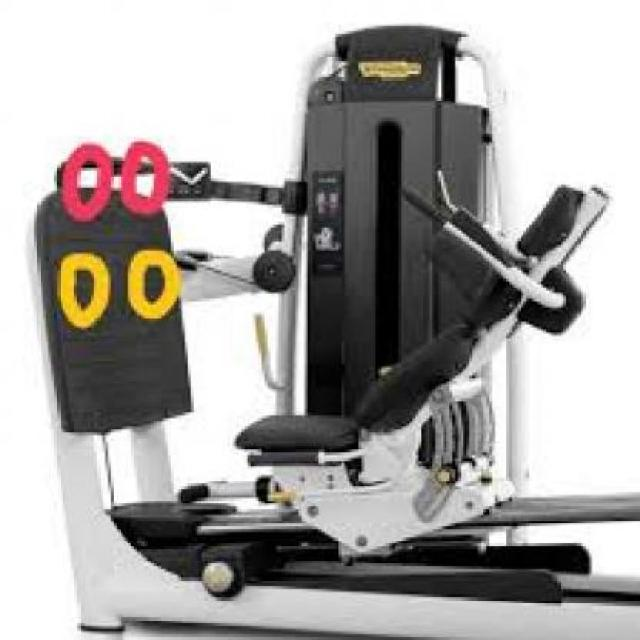leg press: (20, 18, 640, 640)
